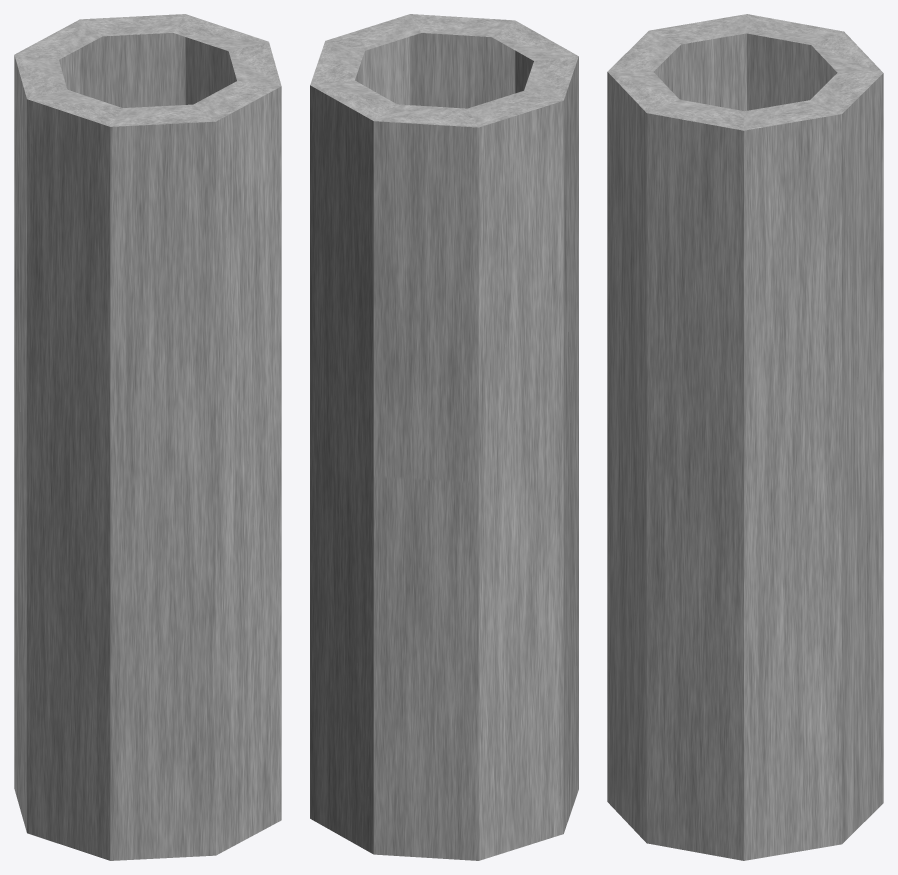
Rendered from light_(pole).001_concrete_0_lev3.glb.
3 renders of one model, left to right at view 1: azimuth 30°, elevation 25°; view 2: azimuth 150°, elevation 25°; view 3: azimuth 270°, elevation 25°, orthographic.
Visible parts, largest first — view 1: light_(pole).001_concrete_0_lev3; view 2: light_(pole).001_concrete_0_lev3; view 3: light_(pole).001_concrete_0_lev3.
Part boxes in pixels (x1,y1,x2,y2): light_(pole).001_concrete_0_lev3: (14,14,281,860); light_(pole).001_concrete_0_lev3: (310,14,578,860); light_(pole).001_concrete_0_lev3: (607,14,883,860).
Size of the model in its own units: 0.149 by 0.4347 by 0.149.
1 material, 1 textured.
